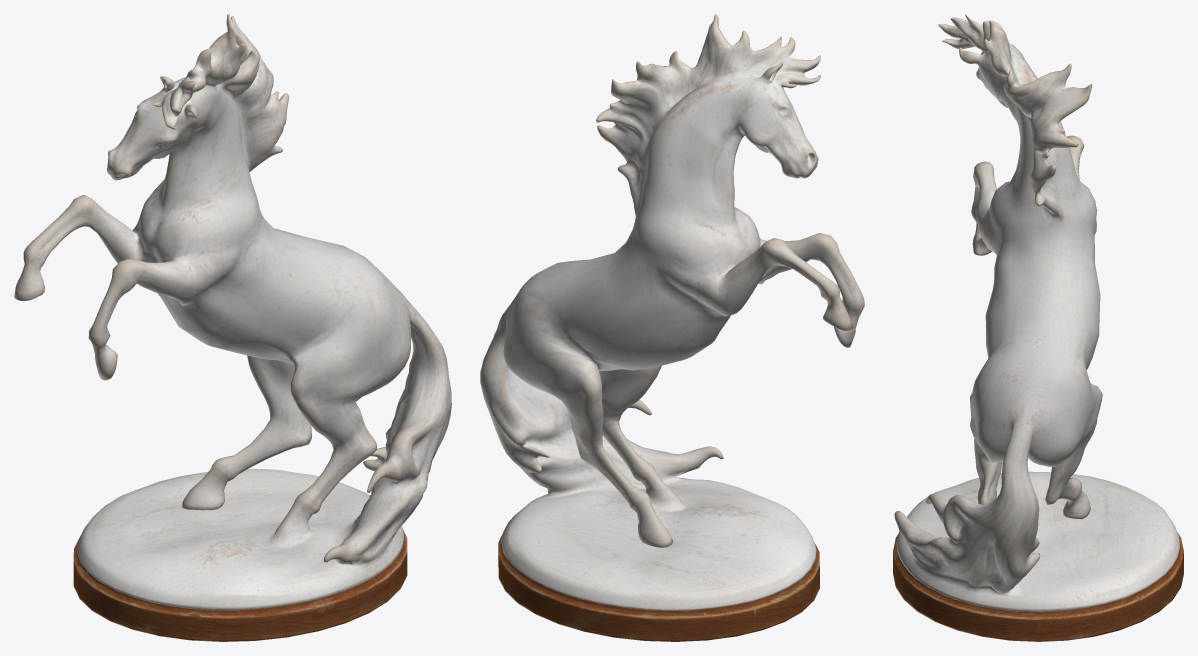
Rendered from ph_horse_statue_01.glb.
3 renders of one model, left to right at view 1: azimuth 30°, elevation 25°; view 2: azimuth 150°, elevation 25°; view 3: azimuth 270°, elevation 25°, orthographic. The views are drawn at different scales.
Visible parts, largest first — view 1: horse_statue_01; view 2: horse_statue_01; view 3: horse_statue_01.
Boxes of the visible parts, box(x1,y1,x2,y2) form: horse_statue_01: box(14, 14, 451, 641); horse_statue_01: box(480, 14, 864, 641); horse_statue_01: box(893, 14, 1183, 641).
Size of the model in its own units: 0.163 by 0.22 by 0.1078.
Materials: 2 (2 with a texture image).
